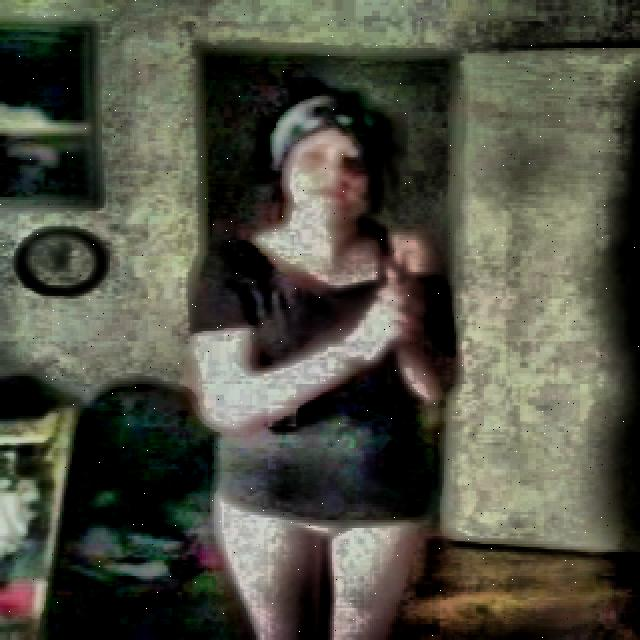F: (186, 88, 463, 640)
